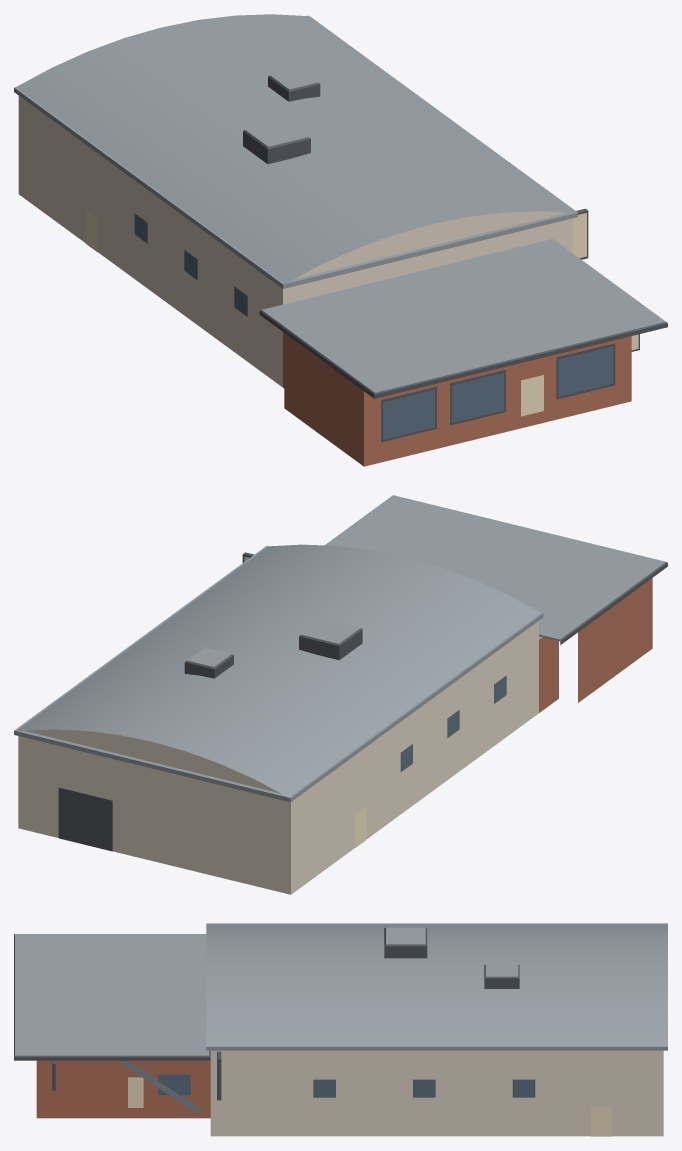
The model's file is amos-southend.glb.
3 views of the same model, one above another, from view 1: azimuth 30°, elevation 25°; view 2: azimuth 150°, elevation 25°; view 3: azimuth 270°, elevation 25° (orthographic). The views are drawn at different scales.
Parts seen in each view (by area): view 1: Amos' Southend; view 2: Amos' Southend; view 3: Amos' Southend.
Boxes of the visible parts, x1,y1,x2,y2 form: Amos' Southend: (14, 14, 667, 466); Amos' Southend: (14, 495, 667, 894); Amos' Southend: (14, 923, 667, 1136).
Bounding box in the file's own units: 23.1 × 9.6 × 45.9.
